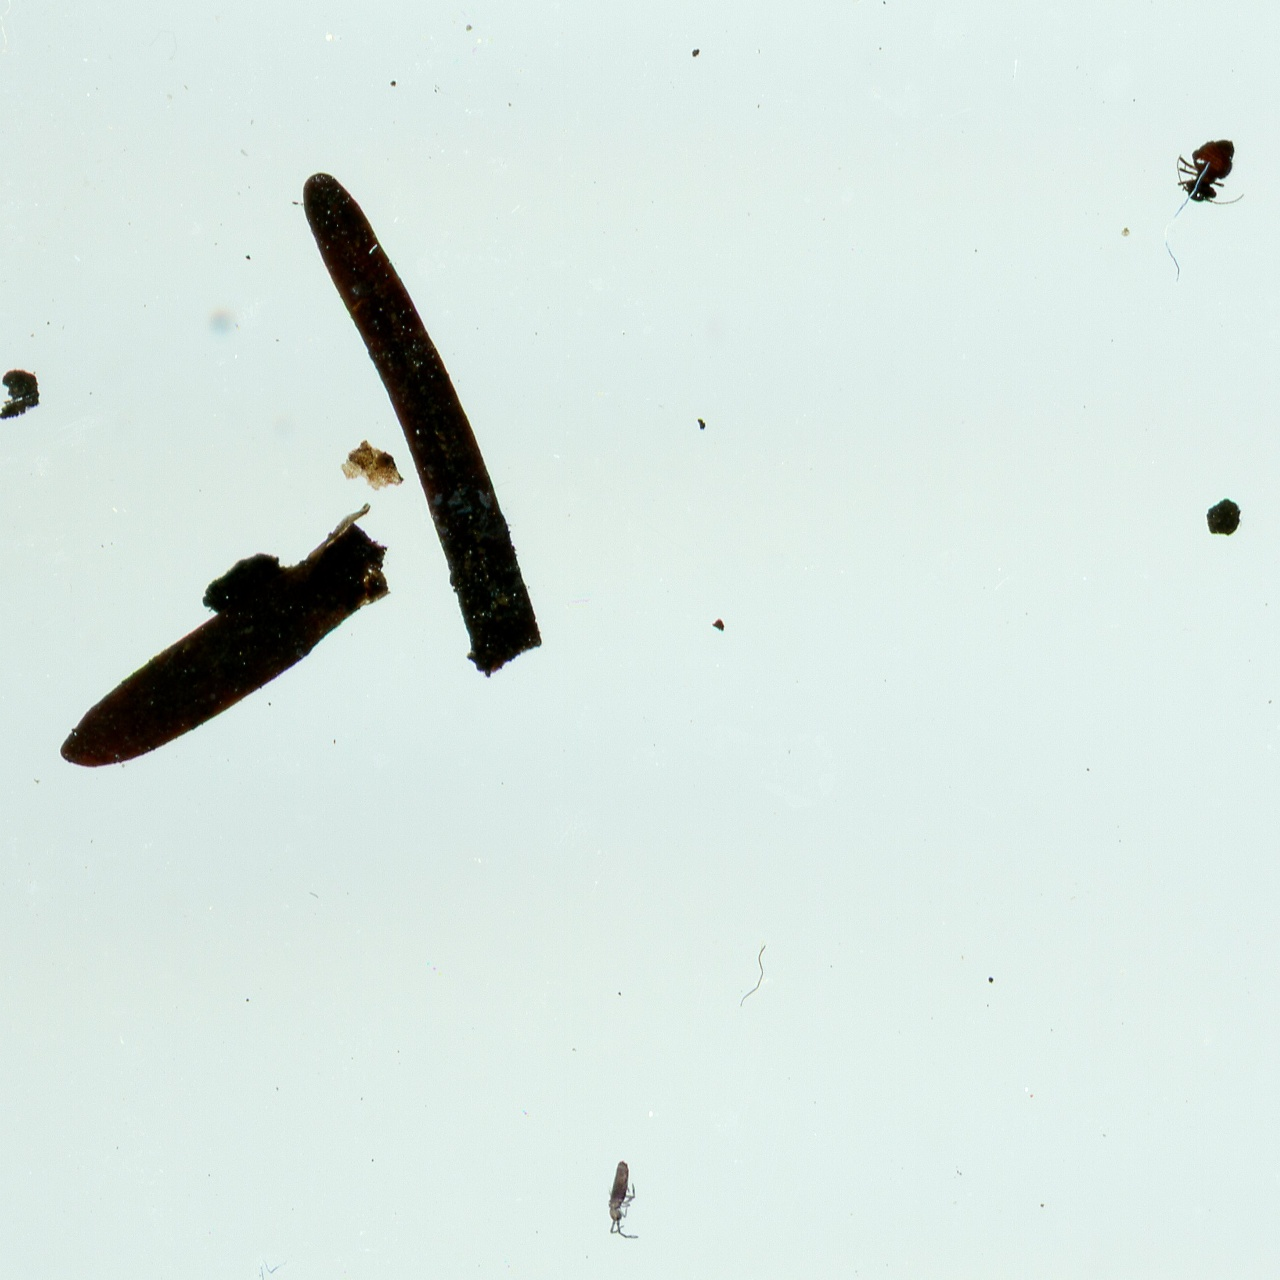arthropod: (593, 1141, 653, 1253), (1172, 137, 1248, 211)
